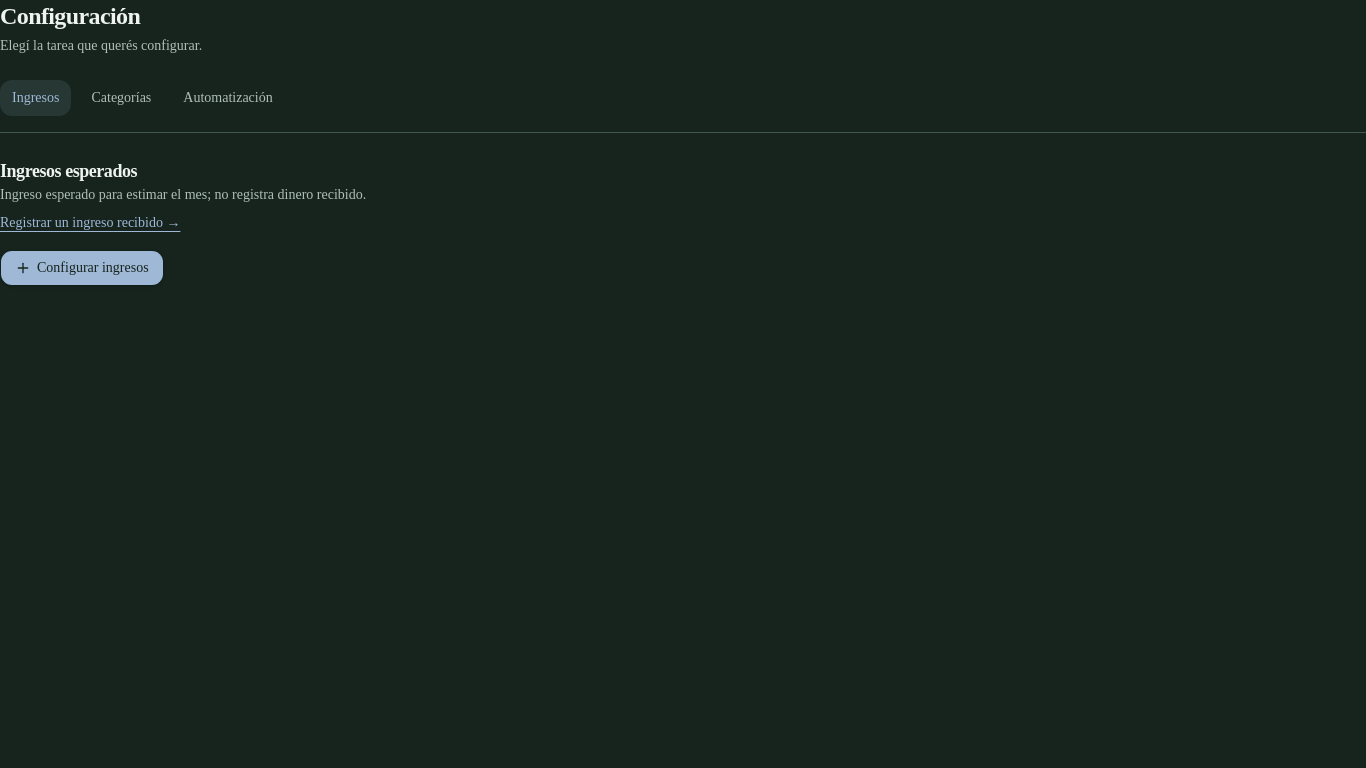
Test: muestra ingresos sin categorías ni incidencias para invalid
Click the button "Configurar ingresos": (82, 268) [0,250,164,286]
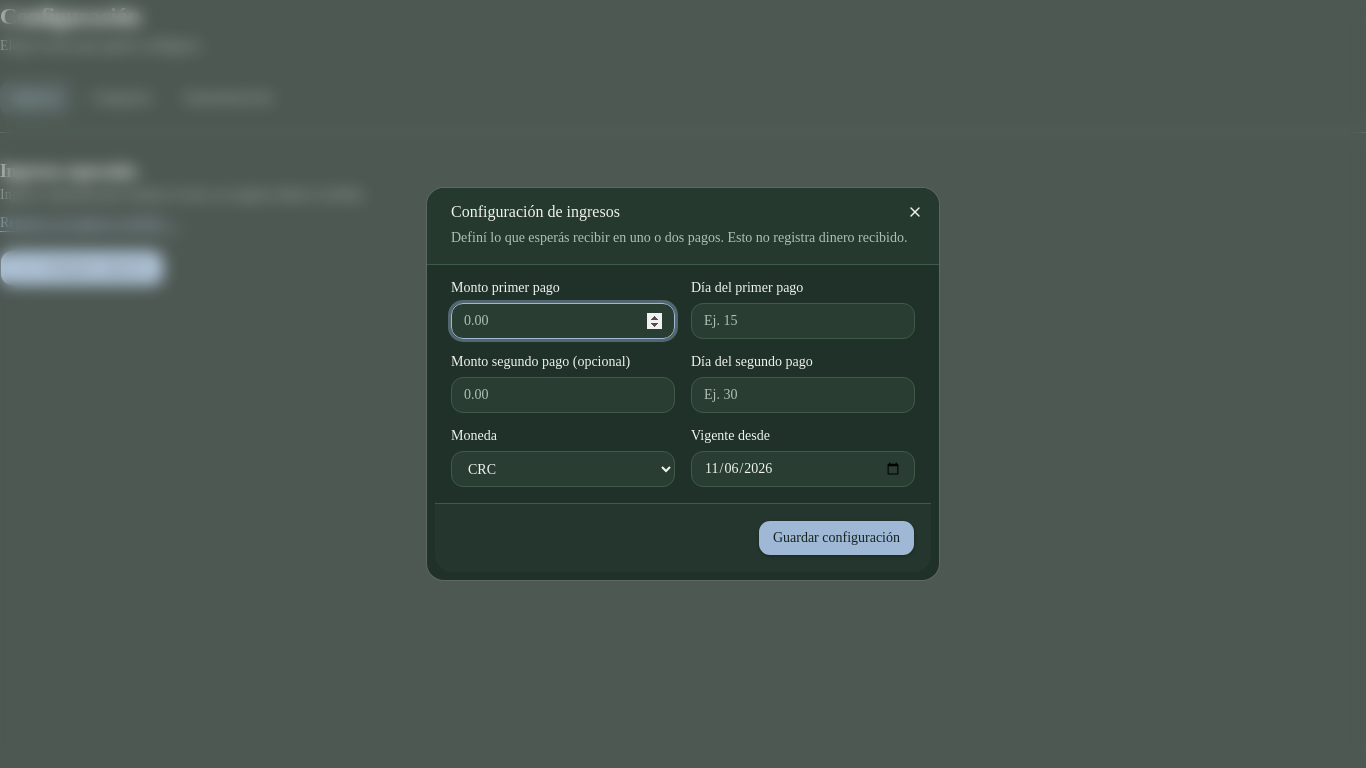
expect the number field labelled "Monto primer pago" is shown: met, box [451,303,675,339]
